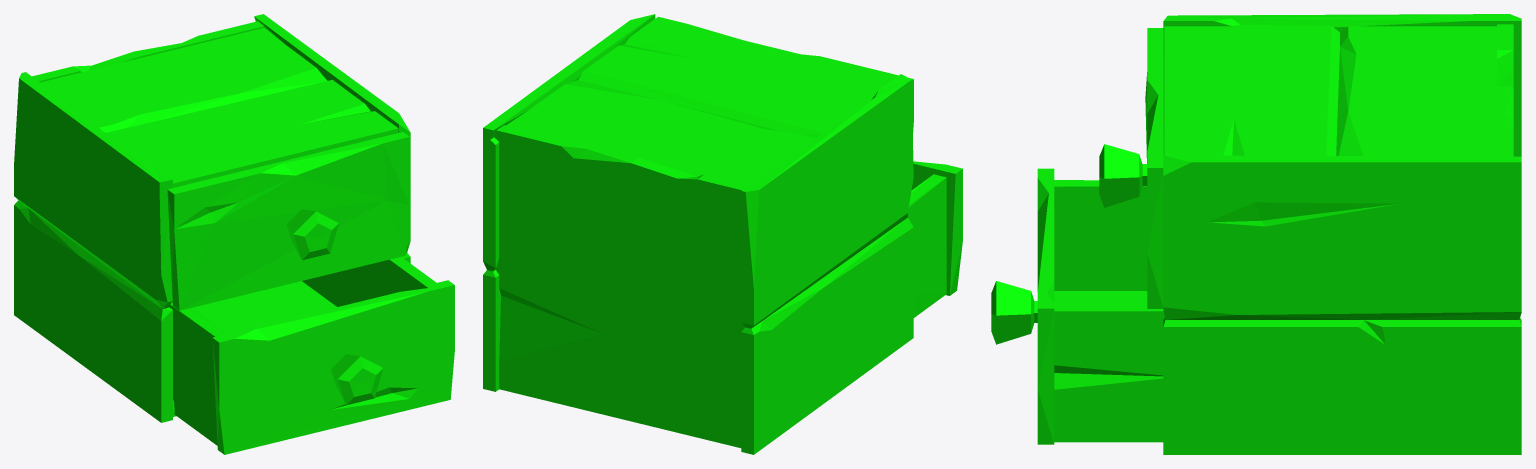
File: SM_Drawers_Small_Fantasy.fbx
3 views of the same model, side by side, from view 1: azimuth 30°, elevation 25°; view 2: azimuth 150°, elevation 25°; view 3: azimuth 270°, elevation 25° (orthographic). The views are drawn at different scales.
Parts seen in each view (by area): view 1: drawers-small-body-fantasy, drawers-small-drawer-fantasy; view 2: drawers-small-body-fantasy, drawers-small-drawer-fantasy; view 3: drawers-small-body-fantasy, drawers-small-drawer-fantasy.
Boxes of the visible parts, x1,y1,x2,y2 form: drawers-small-body-fantasy: (14,14,410,422); drawers-small-drawer-fantasy: (169,257,454,454); drawers-small-body-fantasy: (483,14,913,454); drawers-small-drawer-fantasy: (907,161,962,317); drawers-small-body-fantasy: (1099,14,1521,454); drawers-small-drawer-fantasy: (991,168,1164,444).
Bounding box in the file's own units: 0.2175 × 0.2004 × 0.329.
